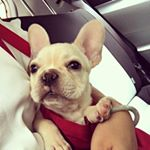puppy: (25, 17, 119, 125)
